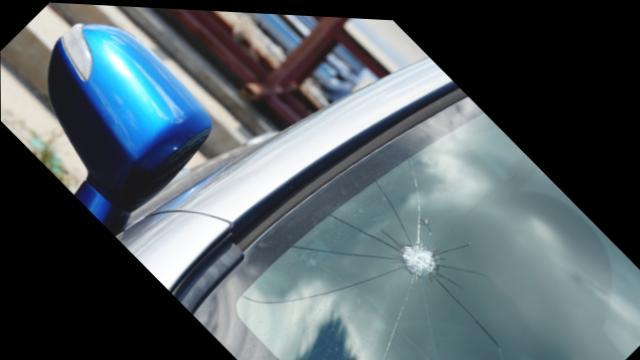glass shatter: (193, 92, 640, 360)
